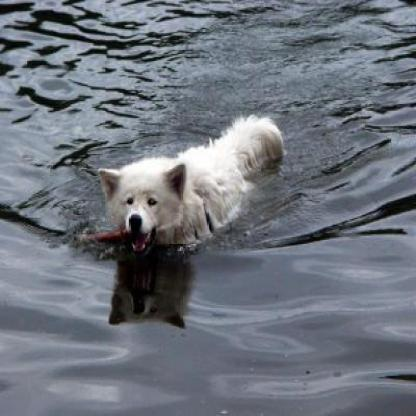Samoyed: (94, 110, 287, 256)
